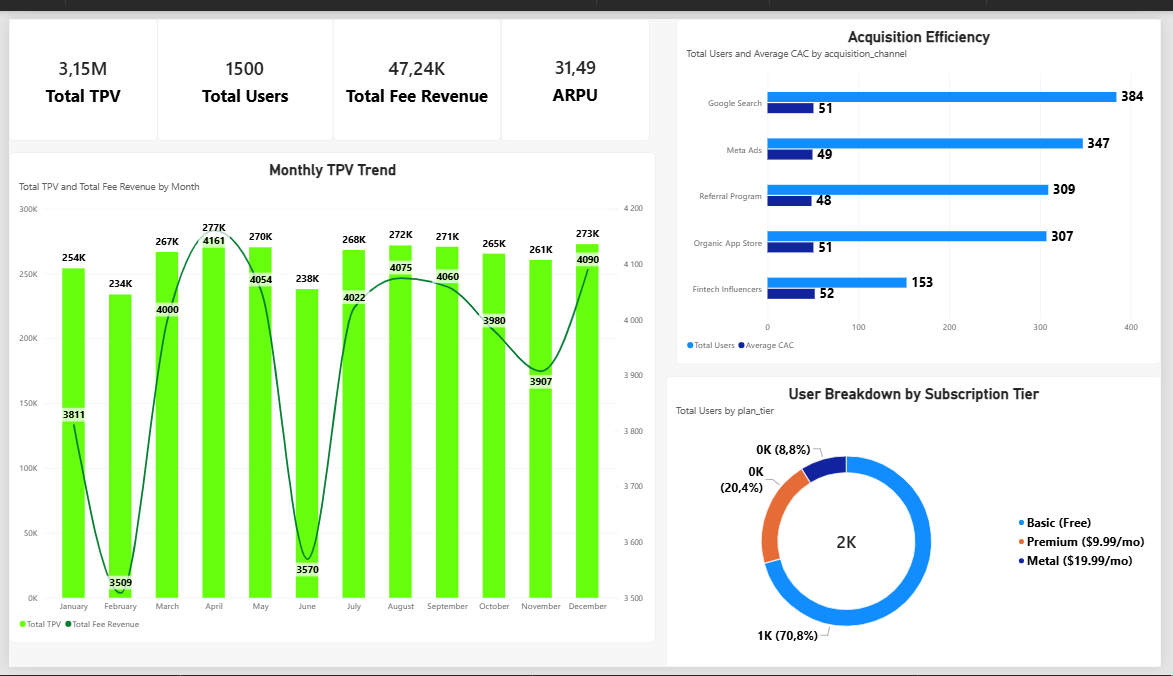

The page's visual inventory and layout, read from the dashboard file:
{"tool":"powerbi","page":{"name":"Executive Growth & Unit Economics","canvas":[1920,1080],"ordinal":0},"visuals":[{"type":"card","fields":{"Values":["Fact_Transaction.Total TPV"]},"box":[0,0,247.5,202.5],"z":0},{"type":"card","fields":{"Values":["Dim_Users.Total Users"]},"box":[247.5,0,292.5,202.5],"z":1},{"type":"card","fields":{"Values":["Fact_Transaction.Total Fee Revenue"]},"box":[540,0,280,202.5],"z":2},{"type":"card","fields":{"Values":["Dim_Users.ARPU"]},"box":[820,0,248,203],"z":3},{"type":"donutChart","title":"User Breakdown by Subscription Tier","fields":{"Category":["Dim_Users.plan_tier"],"Y":["Dim_Users.Total Users"]},"box":[1095,595,825,485],"z":4},{"type":"lineStackedColumnComboChart","title":"Monthly TPV Trend","fields":{"Category":["Fact_Transaction.transaction_date.Variation.Date Hierarchy.Month"],"Y":["Fact_Transaction.Total TPV"],"Y2":["Fact_Transaction.Total Fee Revenue"]},"box":[0,222.5,1077.5,817.5],"z":5},{"type":"clusteredBarChart","title":"Acquisition Efficiency","fields":{"Category":["Dim_Users.acquisition_channel"],"Y":["Dim_Users.Total Users","Dim_Users.Average CAC"]},"box":[1112.5,0,807.5,575],"z":6}]}

Visuals, with their boxes in screenshot pixels (x1, y1, x2, y2), scaled from the page's 1920x1080 canvas onto the 1173x676 screenshot:
card - Fact_Transaction.Total TPV: {"x1": 0, "y1": 0, "x2": 151, "y2": 127}
card - Dim_Users.Total Users: {"x1": 151, "y1": 0, "x2": 330, "y2": 127}
card - Fact_Transaction.Total Fee Revenue: {"x1": 330, "y1": 0, "x2": 501, "y2": 127}
card - Dim_Users.ARPU: {"x1": 501, "y1": 0, "x2": 652, "y2": 127}
"User Breakdown by Subscription Tier" donutChart: {"x1": 669, "y1": 372, "x2": 1172, "y2": 675}
"Monthly TPV Trend" lineStackedColumnComboChart: {"x1": 0, "y1": 139, "x2": 658, "y2": 651}
"Acquisition Efficiency" clusteredBarChart: {"x1": 680, "y1": 0, "x2": 1172, "y2": 360}
